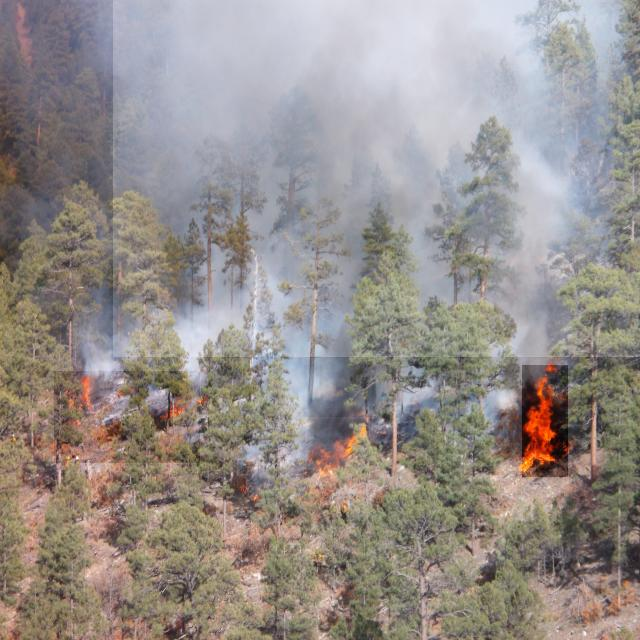Fire: (54, 371, 200, 463), (522, 365, 568, 477), (305, 417, 370, 494)
Smoke: (113, 0, 640, 357)
